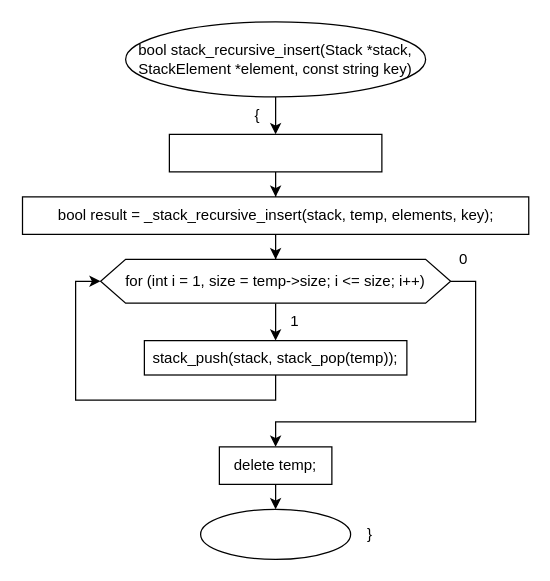
The diagram is 550 pixels wide and 581 high, and some of its shapes have lost their labels. Each missing label, with the box of its shape:
return result;: (199, 508, 351, 559)
Stack *temp = new Stack();: (168, 133, 382, 172)
